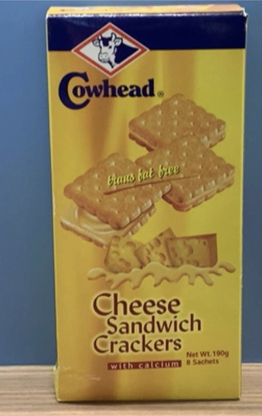crackers_100g-199g: (60, 33, 231, 379)
